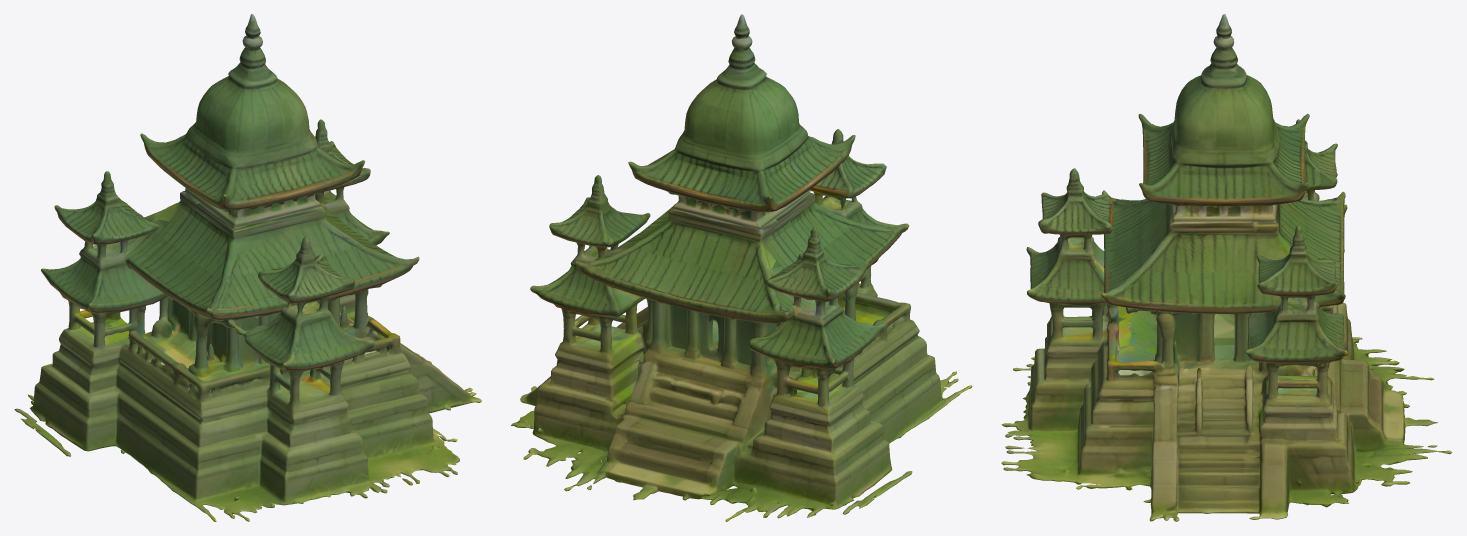
File: Air Nation Building.glb
3 renders of one model, left to right at view 1: azimuth 30°, elevation 25°; view 2: azimuth 150°, elevation 25°; view 3: azimuth 270°, elevation 25°, orthographic.
Visible parts, largest first — view 1: tripo_node_f4eb7e8d-50a4-465a-894b-f0cbb0001f38; view 2: tripo_node_f4eb7e8d-50a4-465a-894b-f0cbb0001f38; view 3: tripo_node_f4eb7e8d-50a4-465a-894b-f0cbb0001f38.
Boxes of the visible parts, bbox=[...] form: tripo_node_f4eb7e8d-50a4-465a-894b-f0cbb0001f38: bbox=[14, 14, 481, 521]; tripo_node_f4eb7e8d-50a4-465a-894b-f0cbb0001f38: bbox=[511, 14, 972, 521]; tripo_node_f4eb7e8d-50a4-465a-894b-f0cbb0001f38: bbox=[1001, 14, 1452, 521].
Size of the model in its own units: 0.8436 by 0.892 by 0.8714.
Materials: 1 (1 with a texture image).
